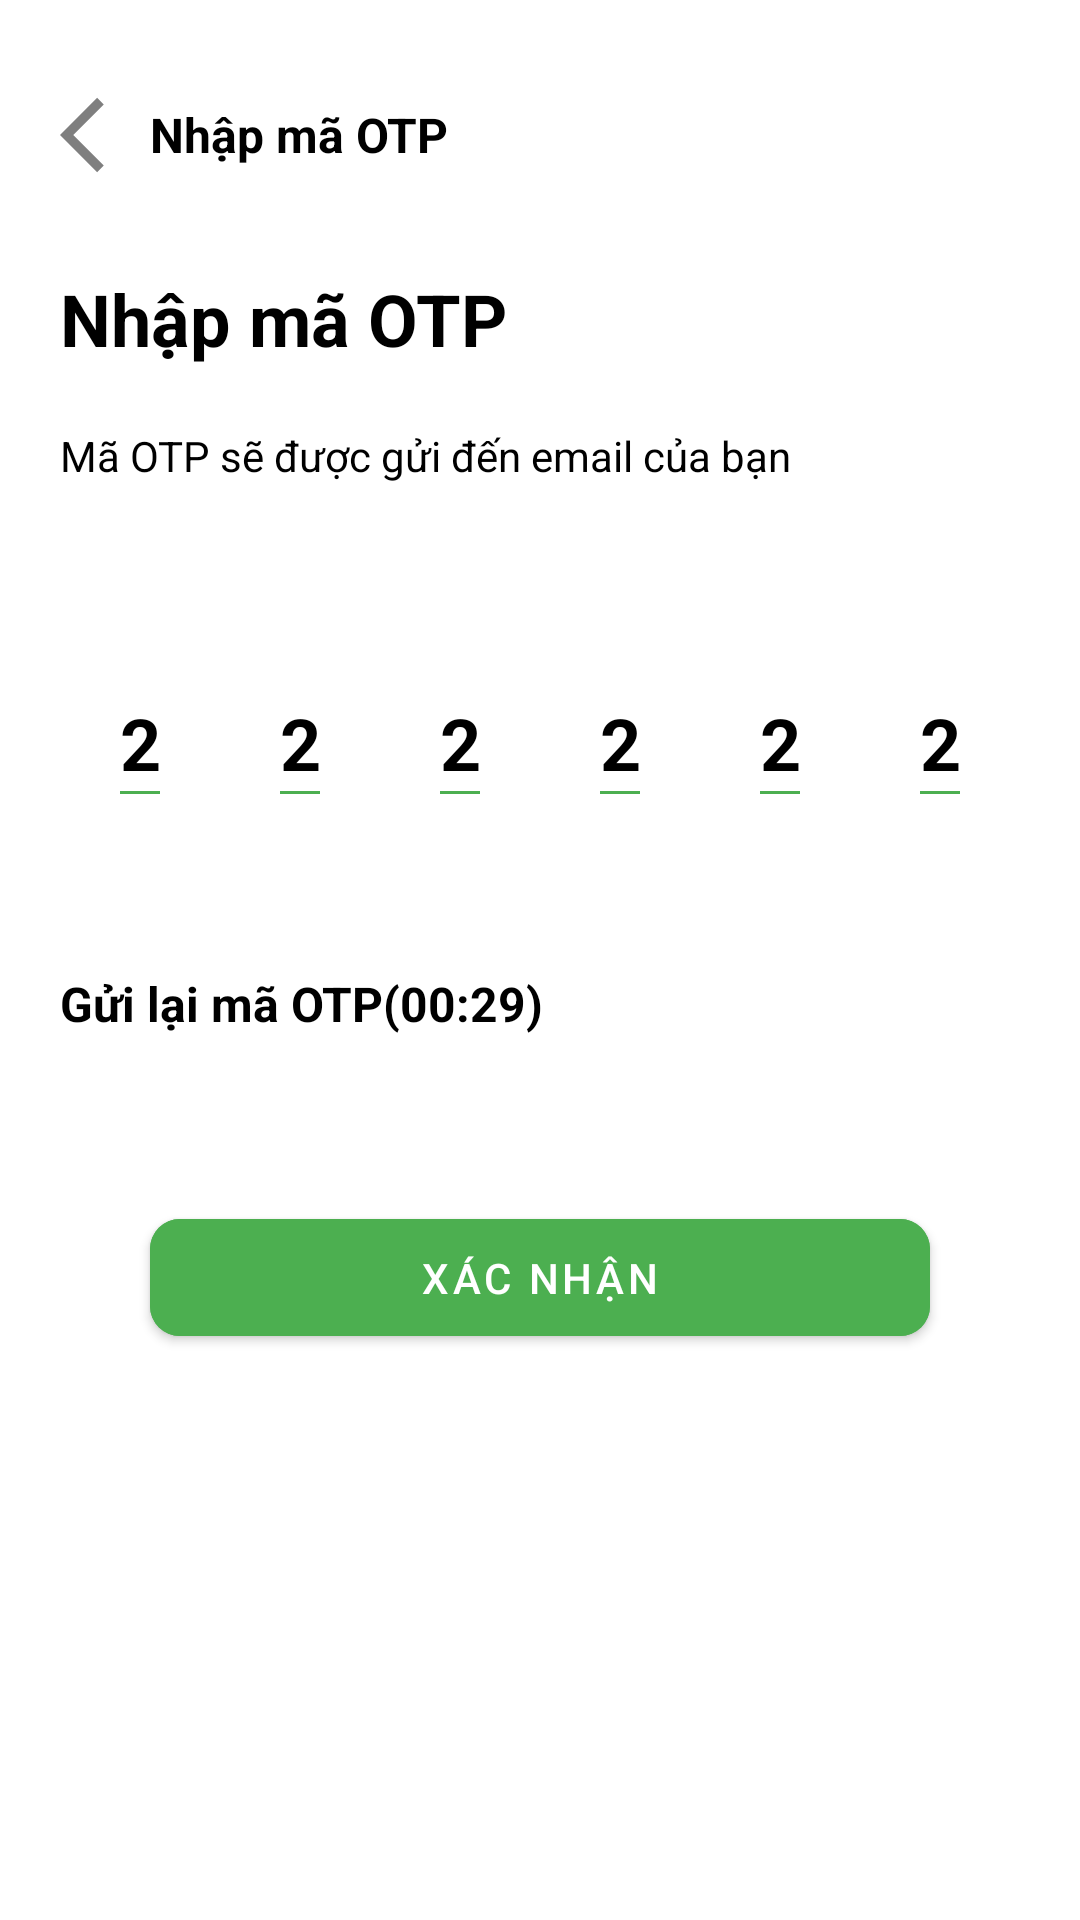

Point at icon controls on the screen. Image size 1080×1920, points as point (x, y).
back: point (82, 135)
